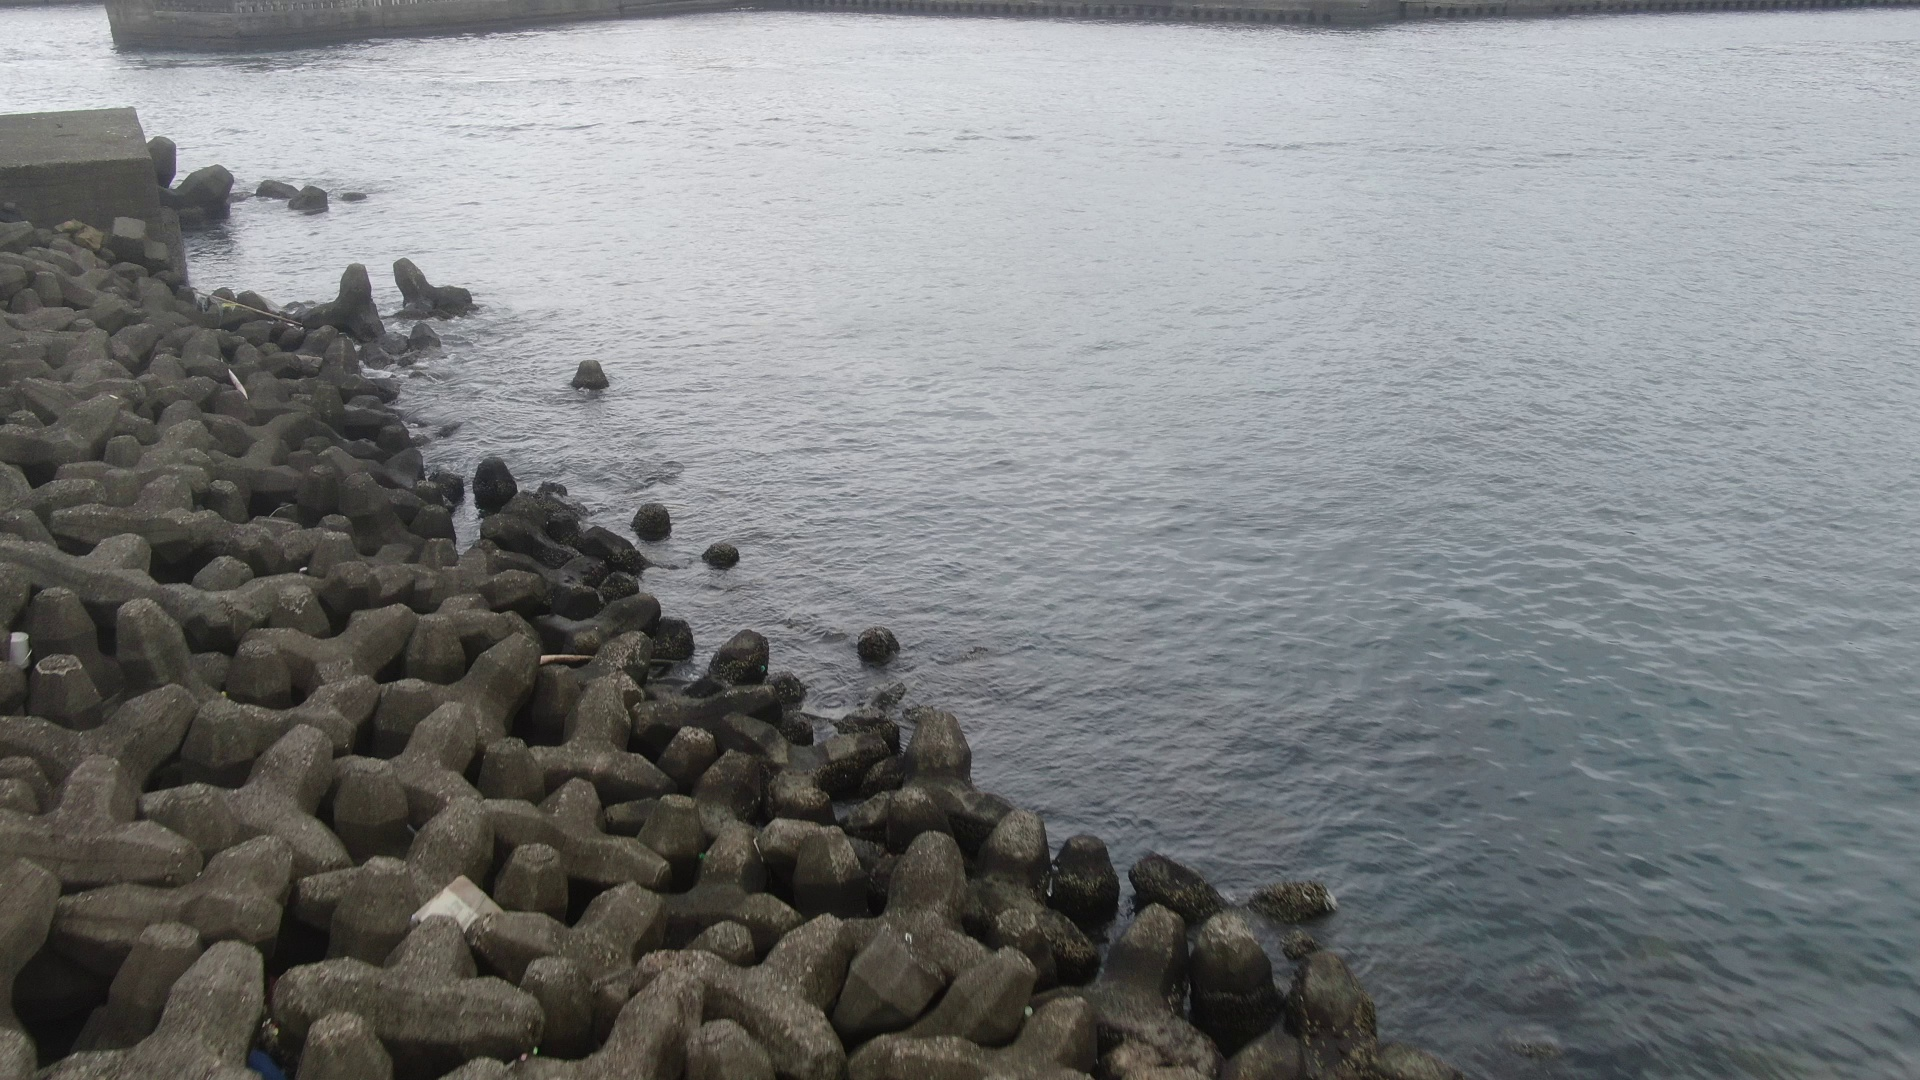garbage: (409, 870, 509, 938), (241, 1044, 291, 1080), (5, 624, 44, 670)
